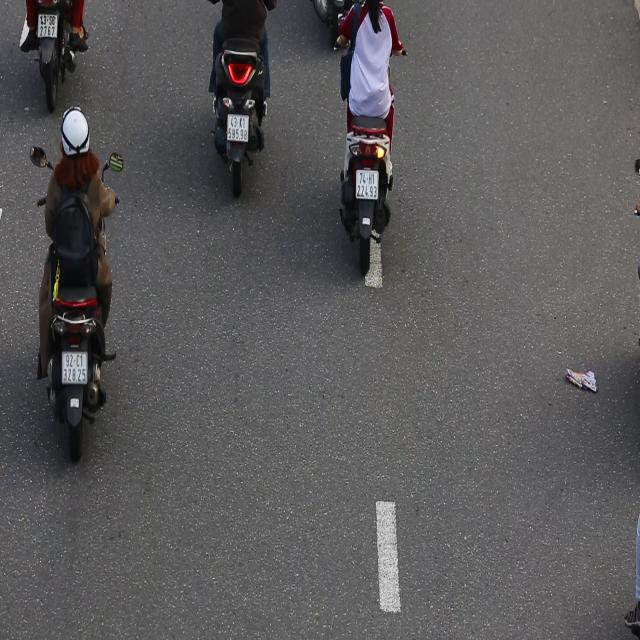motorbike: (29, 96, 126, 468)
